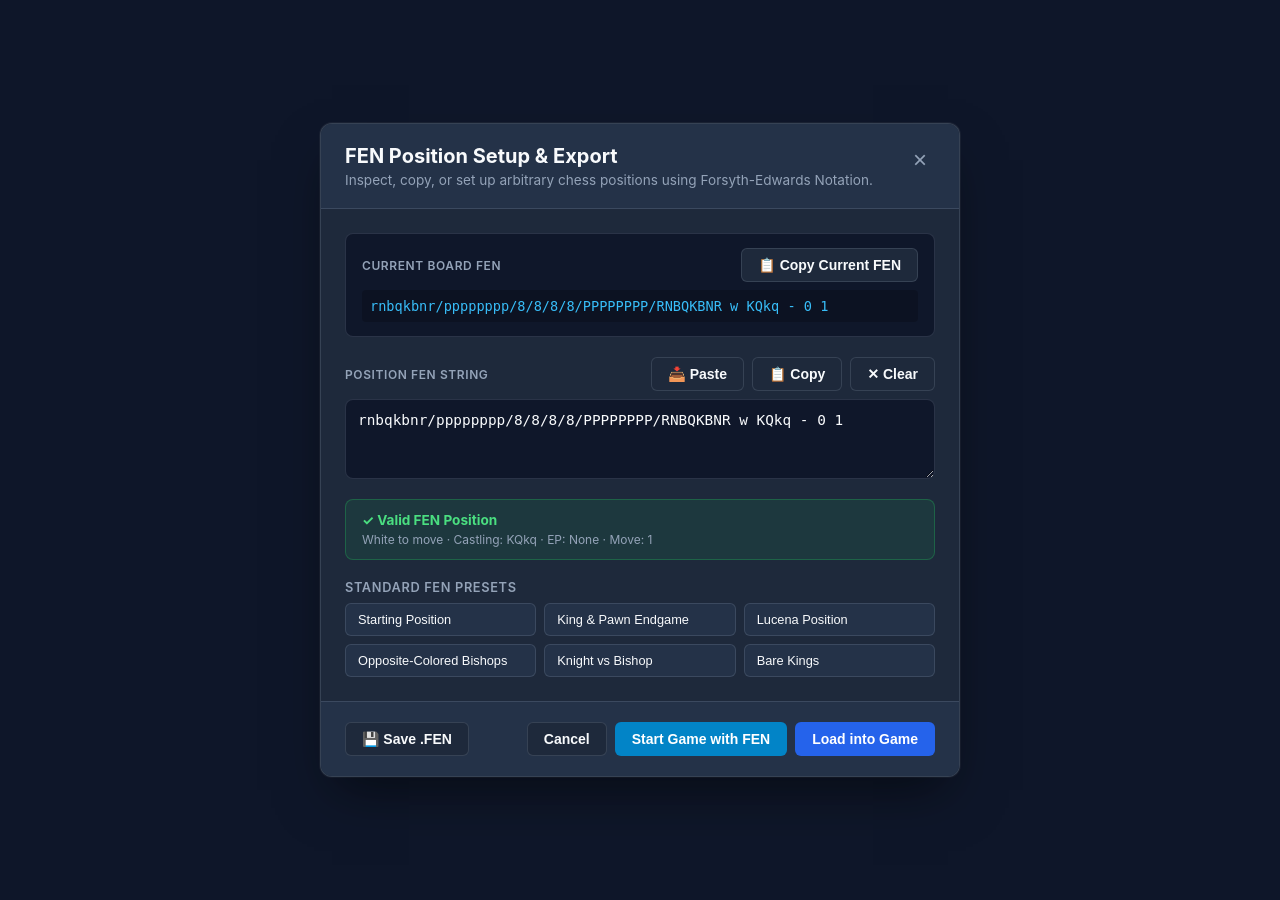
FenModal UI Component Tests (Phase 08 · Sprint 04) › TC-FEN-UI-07: invalid token count shows descriptive error and disables load button
The image size is (1280, 900).
Replace the text in the text box with test id "fen-input-textarea" with "rnbqkbnr/pppppppp/8/8/8/8/PPPPPPPP/RNBQKBNR w" at (640, 439), box top-left (345, 399), bottom-right (935, 479)
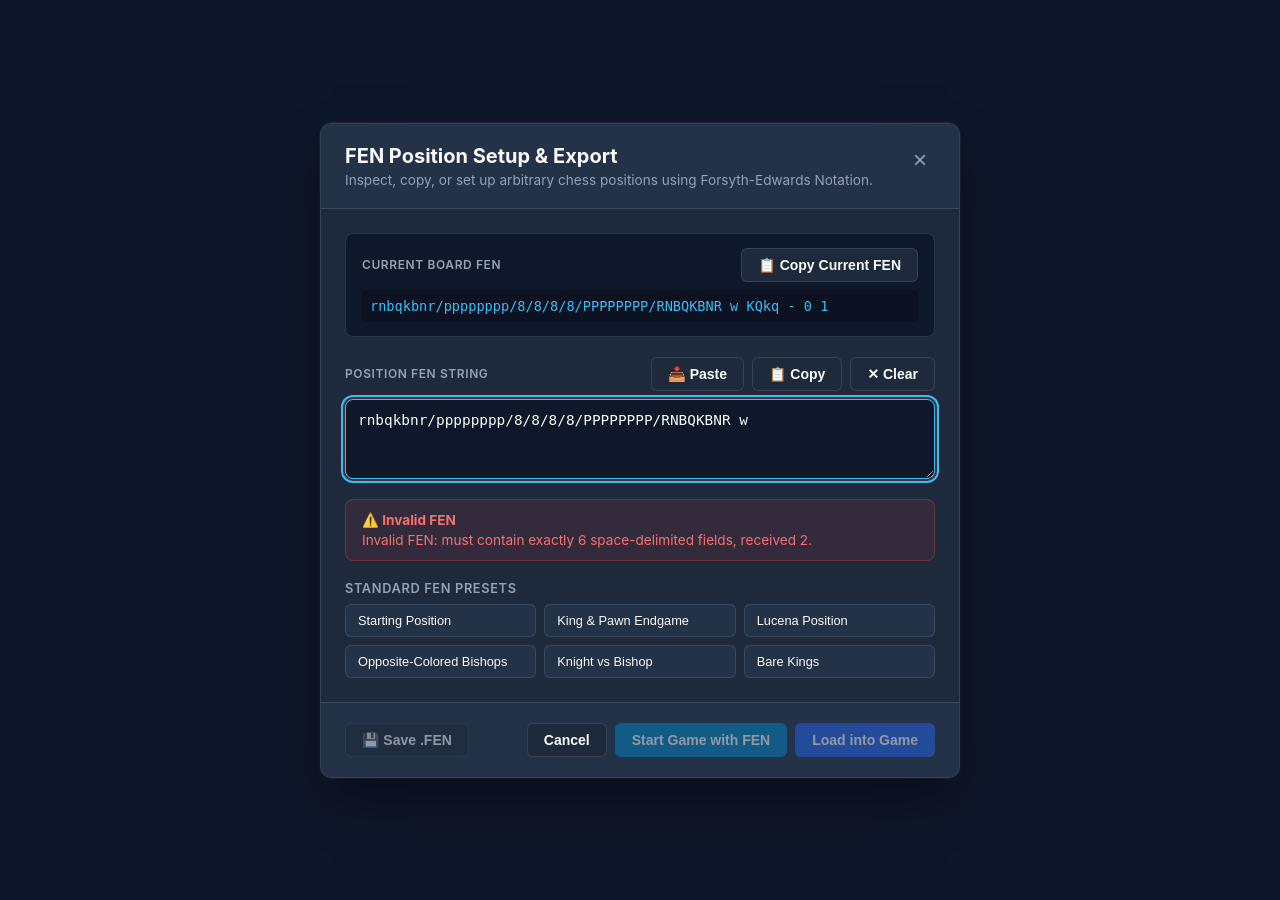
Check: the text with test id "fen-error-message" shows "must contain exactly 6 space-delimited fields", box top-left (362, 532), bottom-right (812, 548)
Check: the button with test id "btn-load-fen" is disabled, box top-left (795, 722), bottom-right (935, 756)
Check: the button with test id "btn-start-game-fen" is disabled, box top-left (615, 722), bottom-right (787, 756)
